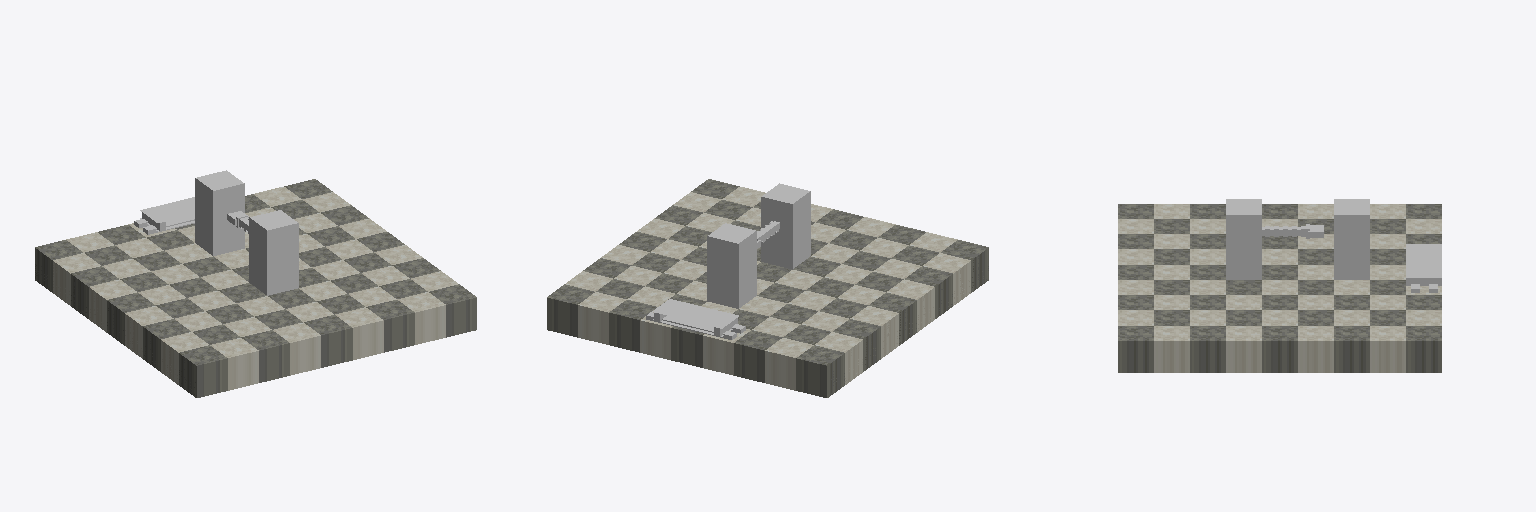
3 views of the same model, side by side, from view 1: azimuth 30°, elevation 25°; view 2: azimuth 150°, elevation 25°; view 3: azimuth 270°, elevation 25° (orthographic).
Parts seen in each view (by area): view 1: Grid.001_Grid.002, Cube.017_Cube.003, Cube.026_Cube.004, Track.001_cube4.001; view 2: Grid.001_Grid.002, Cube.026_Cube.004, Cube.017_Cube.003, Track.001_cube4.001; view 3: Grid.001_Grid.002, Cube.017_Cube.003, Cube.026_Cube.004, Track.001_cube4.001.
Part boxes in pixels (bbox=[...]): Grid.001_Grid.002: bbox=[35, 179, 476, 397]; Cube.017_Cube.003: bbox=[249, 210, 298, 295]; Cube.026_Cube.004: bbox=[195, 170, 244, 255]; Track.001_cube4.001: bbox=[134, 197, 194, 234]; Grid.001_Grid.002: bbox=[547, 179, 988, 397]; Cube.026_Cube.004: bbox=[707, 223, 756, 308]; Cube.017_Cube.003: bbox=[761, 183, 810, 269]; Track.001_cube4.001: bbox=[646, 299, 745, 339]; Grid.001_Grid.002: bbox=[1118, 204, 1441, 372]; Cube.017_Cube.003: bbox=[1226, 199, 1261, 279]; Cube.026_Cube.004: bbox=[1334, 199, 1369, 279]; Track.001_cube4.001: bbox=[1406, 244, 1441, 292].
Size of the model in its own units: 144 by 48 by 144.
11 materials, 4 textured.